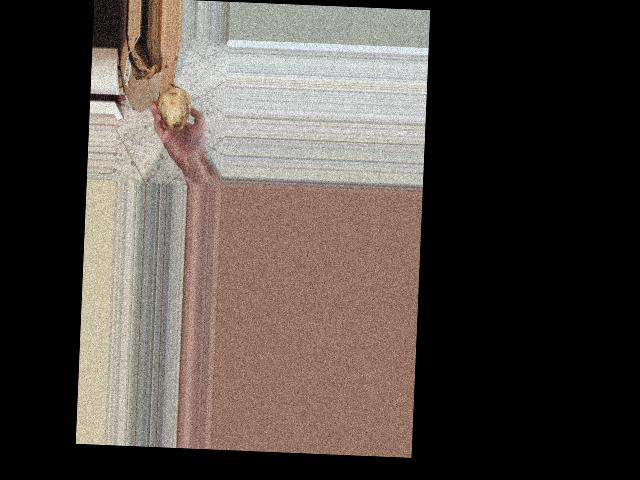onion: (152, 82, 194, 133)
